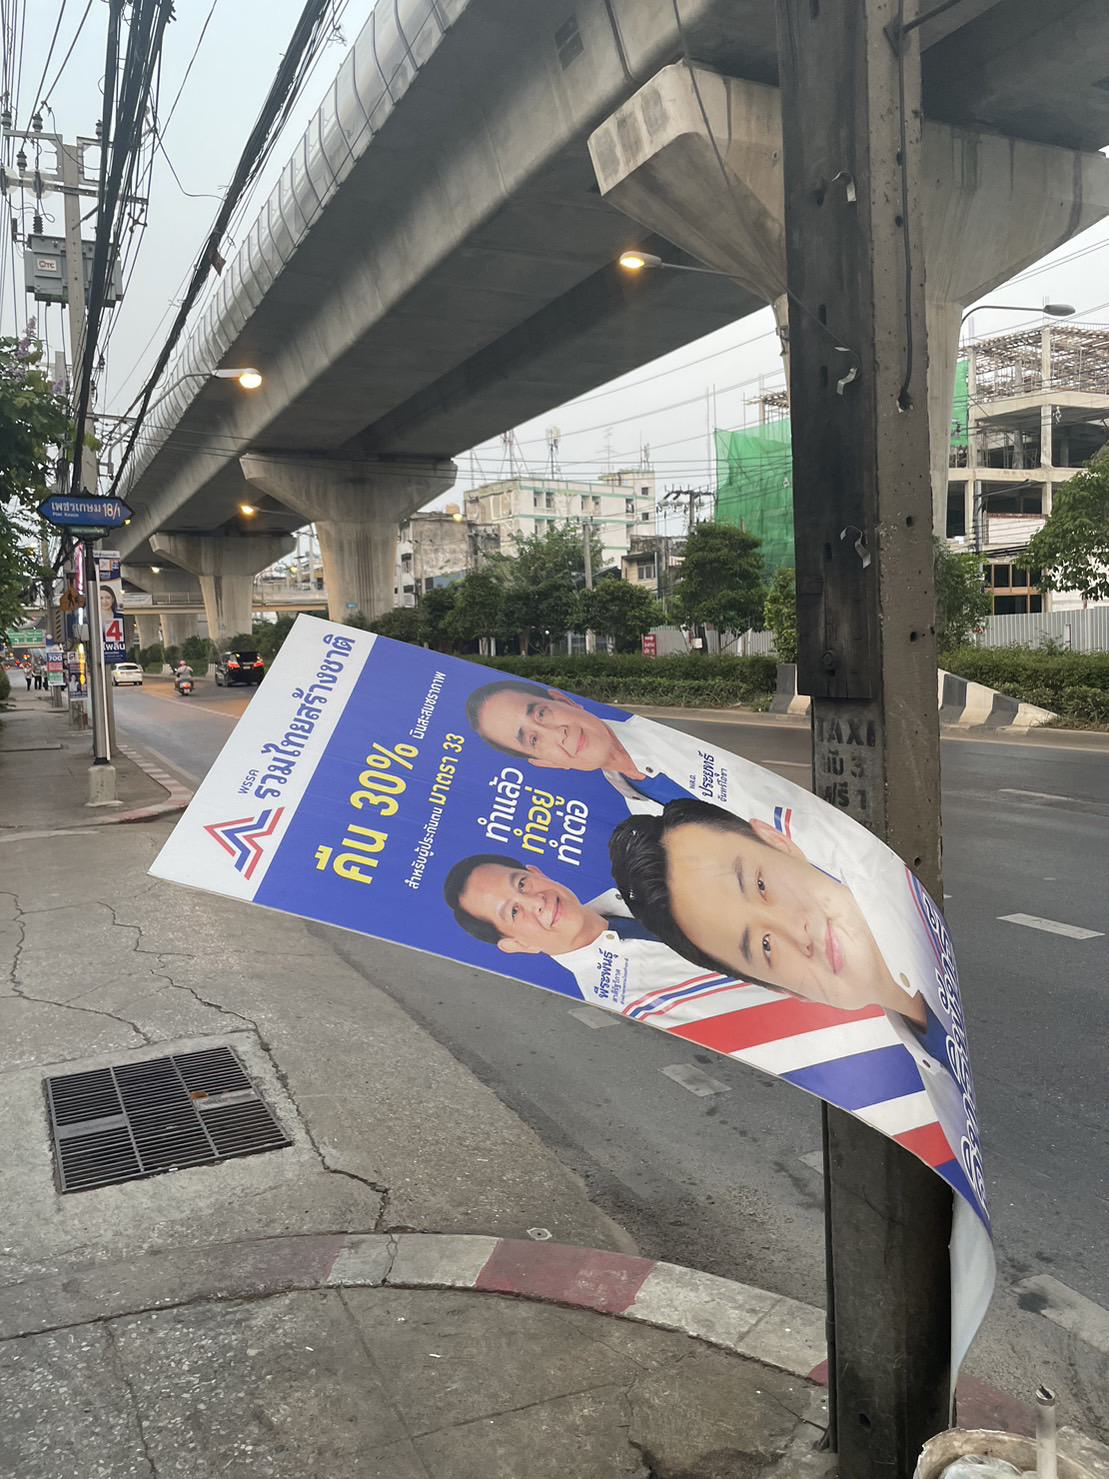Banner: (174, 618, 1043, 1368)
